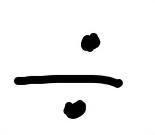div: (14, 33, 123, 120)
